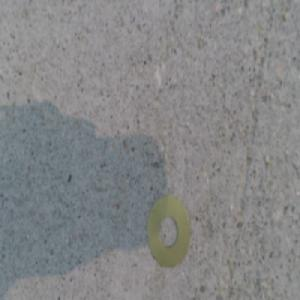Washer: (148, 196, 189, 266)
